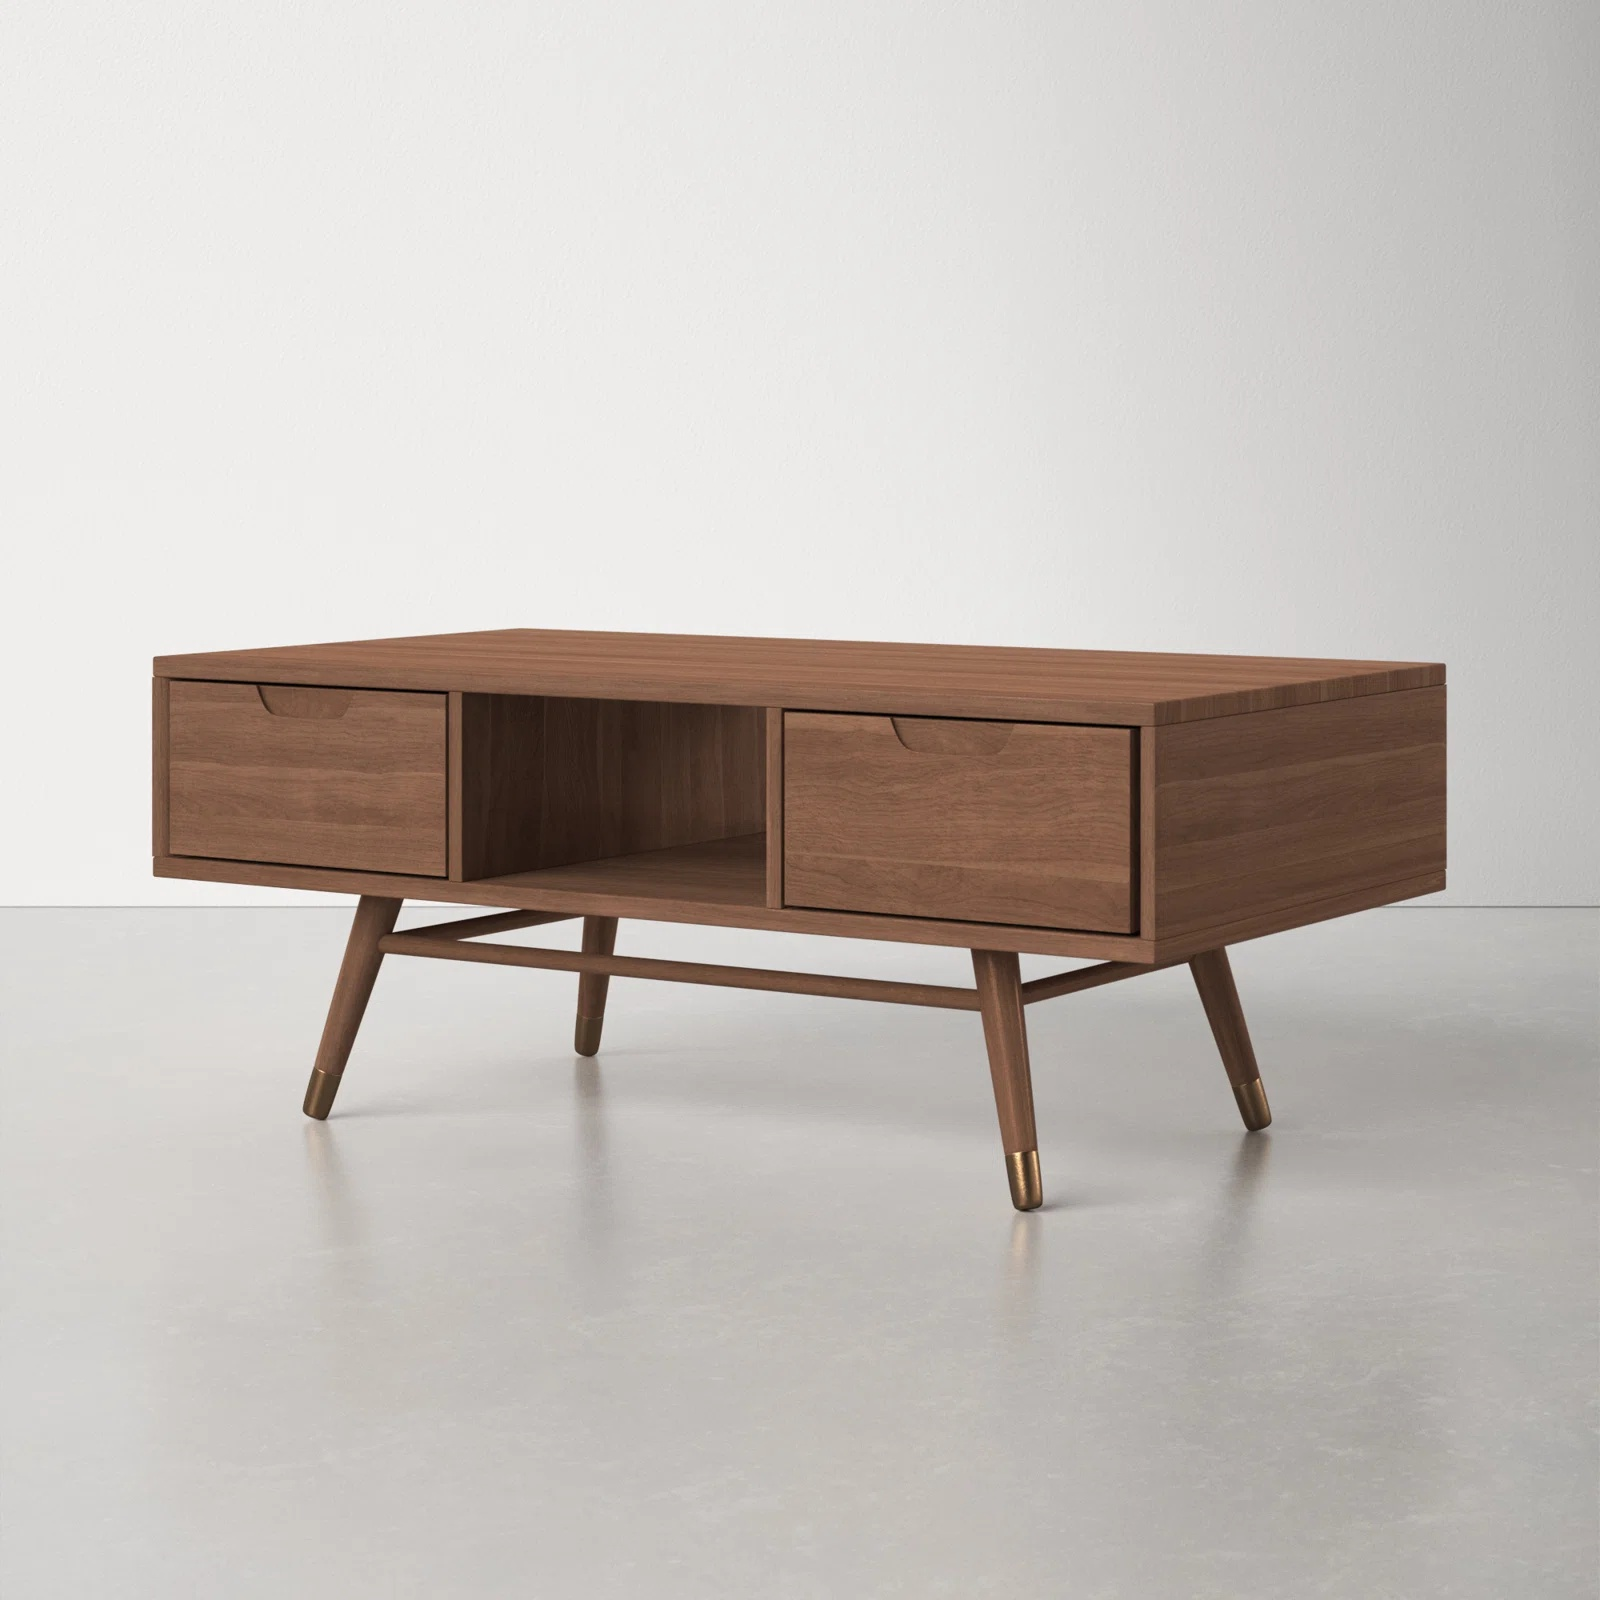obstacle: (152, 630, 1445, 1209)
